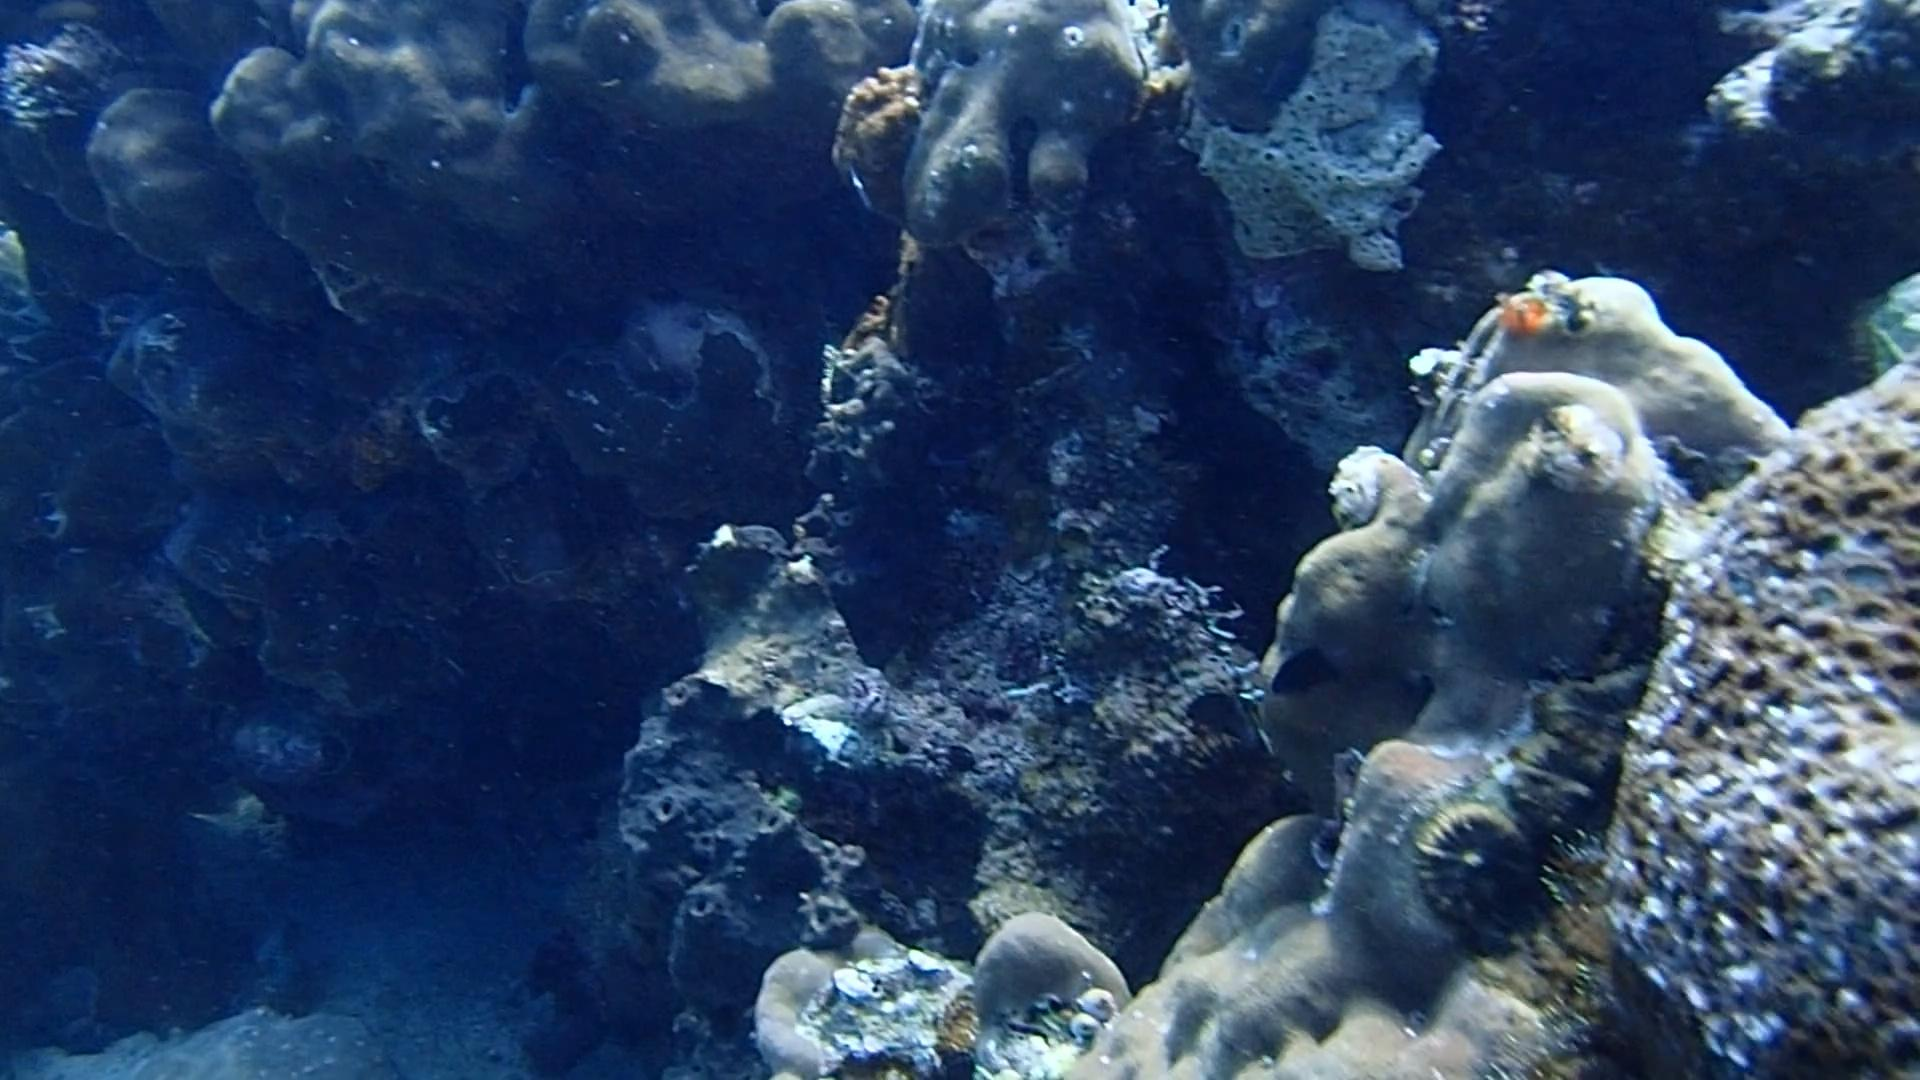Dark Fish: (1175, 680, 1261, 746), (1257, 638, 1348, 699)
